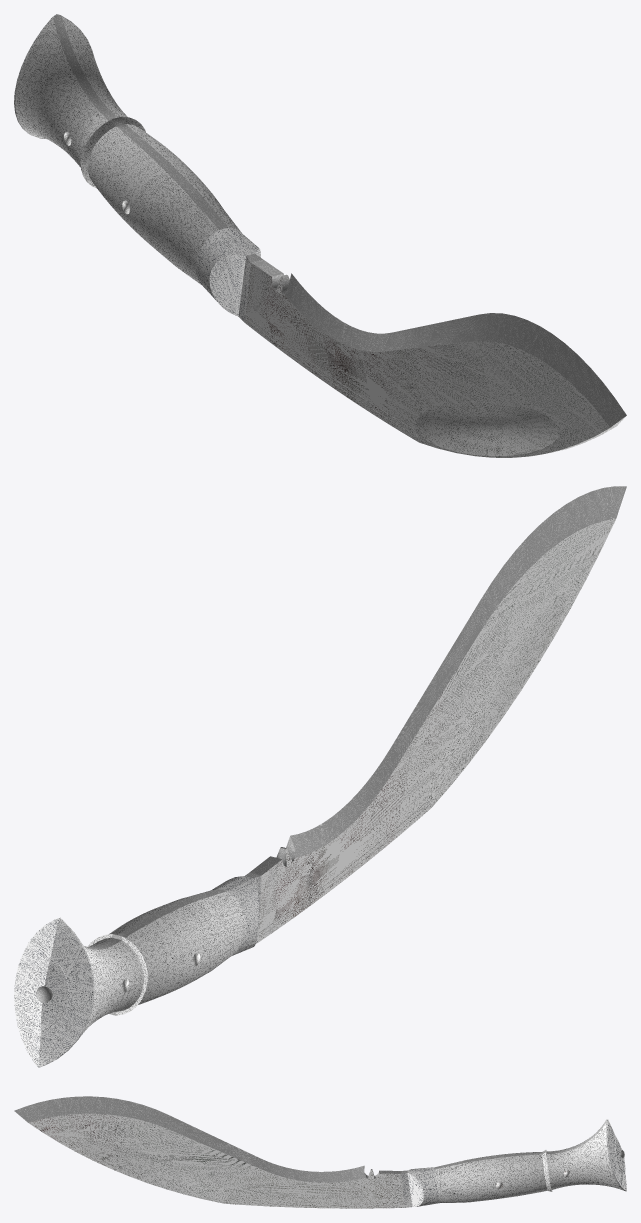
Rendered from model_scale.obj.
3 views of the same model, one above another, from view 1: azimuth 30°, elevation 25°; view 2: azimuth 150°, elevation 25°; view 3: azimuth 270°, elevation 25° (orthographic). The views are drawn at different scales.
Parts seen in each view (by area): view 1: mesh1_mesh1-geometry; view 2: mesh1_mesh1-geometry; view 3: mesh1_mesh1-geometry.
Boxes of the visible parts, x1,y1,x2,y2 form: mesh1_mesh1-geometry: (14, 14, 626, 457); mesh1_mesh1-geometry: (14, 486, 626, 1067); mesh1_mesh1-geometry: (14, 1096, 626, 1208).
Bounding box in the file's own units: 0.0159 × 0.0414 × 0.2073.
